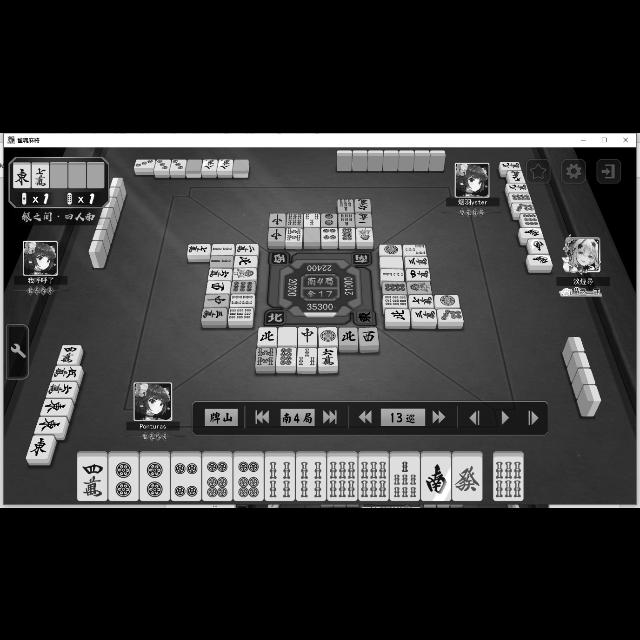1m: (356, 212, 372, 226)
1p: (434, 293, 460, 307), (318, 326, 338, 344), (379, 243, 403, 255)
1s: (408, 280, 432, 294), (234, 267, 256, 279), (356, 227, 372, 241)
2m: (235, 243, 258, 254)
2p: (108, 458, 140, 500), (139, 456, 169, 499), (320, 213, 338, 227)
2s: (209, 254, 233, 266), (211, 242, 235, 254), (380, 270, 404, 280)
3m: (411, 308, 437, 320), (405, 255, 429, 267), (202, 308, 226, 320)
3p: (133, 158, 155, 168), (154, 158, 172, 170), (170, 158, 186, 170)
3s: (298, 347, 316, 365), (404, 243, 426, 254), (304, 212, 320, 226)
4m: (78, 456, 108, 500), (56, 344, 82, 364), (406, 268, 430, 280)
4p: (172, 457, 200, 501), (322, 228, 338, 240)
4s: (264, 456, 296, 499), (296, 456, 326, 500), (231, 294, 255, 306)
5m: (52, 366, 82, 380)
6m: (45, 382, 77, 398), (318, 346, 337, 366), (208, 267, 232, 279), (355, 198, 371, 210)
6p: (233, 456, 264, 500), (202, 456, 232, 500)
6s: (326, 456, 358, 500), (359, 456, 389, 500), (493, 455, 522, 499), (286, 212, 304, 226)
7m: (31, 164, 49, 186), (408, 294, 434, 308), (188, 242, 210, 254)
7p: (436, 308, 464, 320), (511, 202, 535, 214)
7s: (390, 456, 420, 500), (338, 213, 356, 227), (337, 197, 353, 211)
8m: (202, 157, 218, 170), (217, 157, 233, 170)
8p: (276, 346, 296, 366), (383, 281, 407, 293), (339, 227, 355, 241), (510, 192, 532, 202)
8s: (255, 346, 275, 366), (286, 226, 302, 242)
9m: (506, 182, 530, 192), (499, 160, 521, 170), (507, 170, 525, 182)
9p: (230, 280, 256, 292), (521, 214, 541, 226)
9s: (382, 293, 408, 307), (228, 308, 252, 320)
chun: (297, 326, 317, 346), (202, 293, 230, 307), (267, 226, 285, 242), (269, 212, 285, 228)
haku: (278, 326, 298, 346), (378, 256, 404, 268), (304, 227, 320, 241)
hatsu: (452, 456, 482, 500)
nan: (421, 456, 451, 500), (528, 238, 550, 254), (526, 253, 552, 264), (520, 228, 544, 238)
pe: (256, 326, 278, 346), (338, 326, 358, 346), (384, 308, 410, 322), (234, 255, 258, 267)
sha: (359, 327, 379, 345), (204, 280, 230, 292)
tou: (25, 434, 53, 458), (34, 416, 66, 434), (40, 399, 72, 415), (14, 164, 31, 186)
